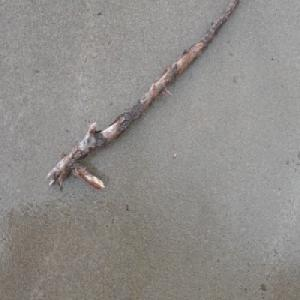Wood: (45, 0, 243, 192)
